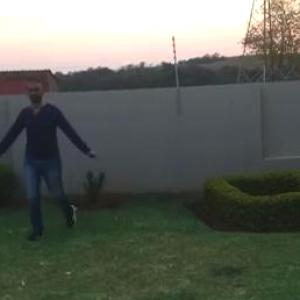land: (1, 92, 98, 239)
